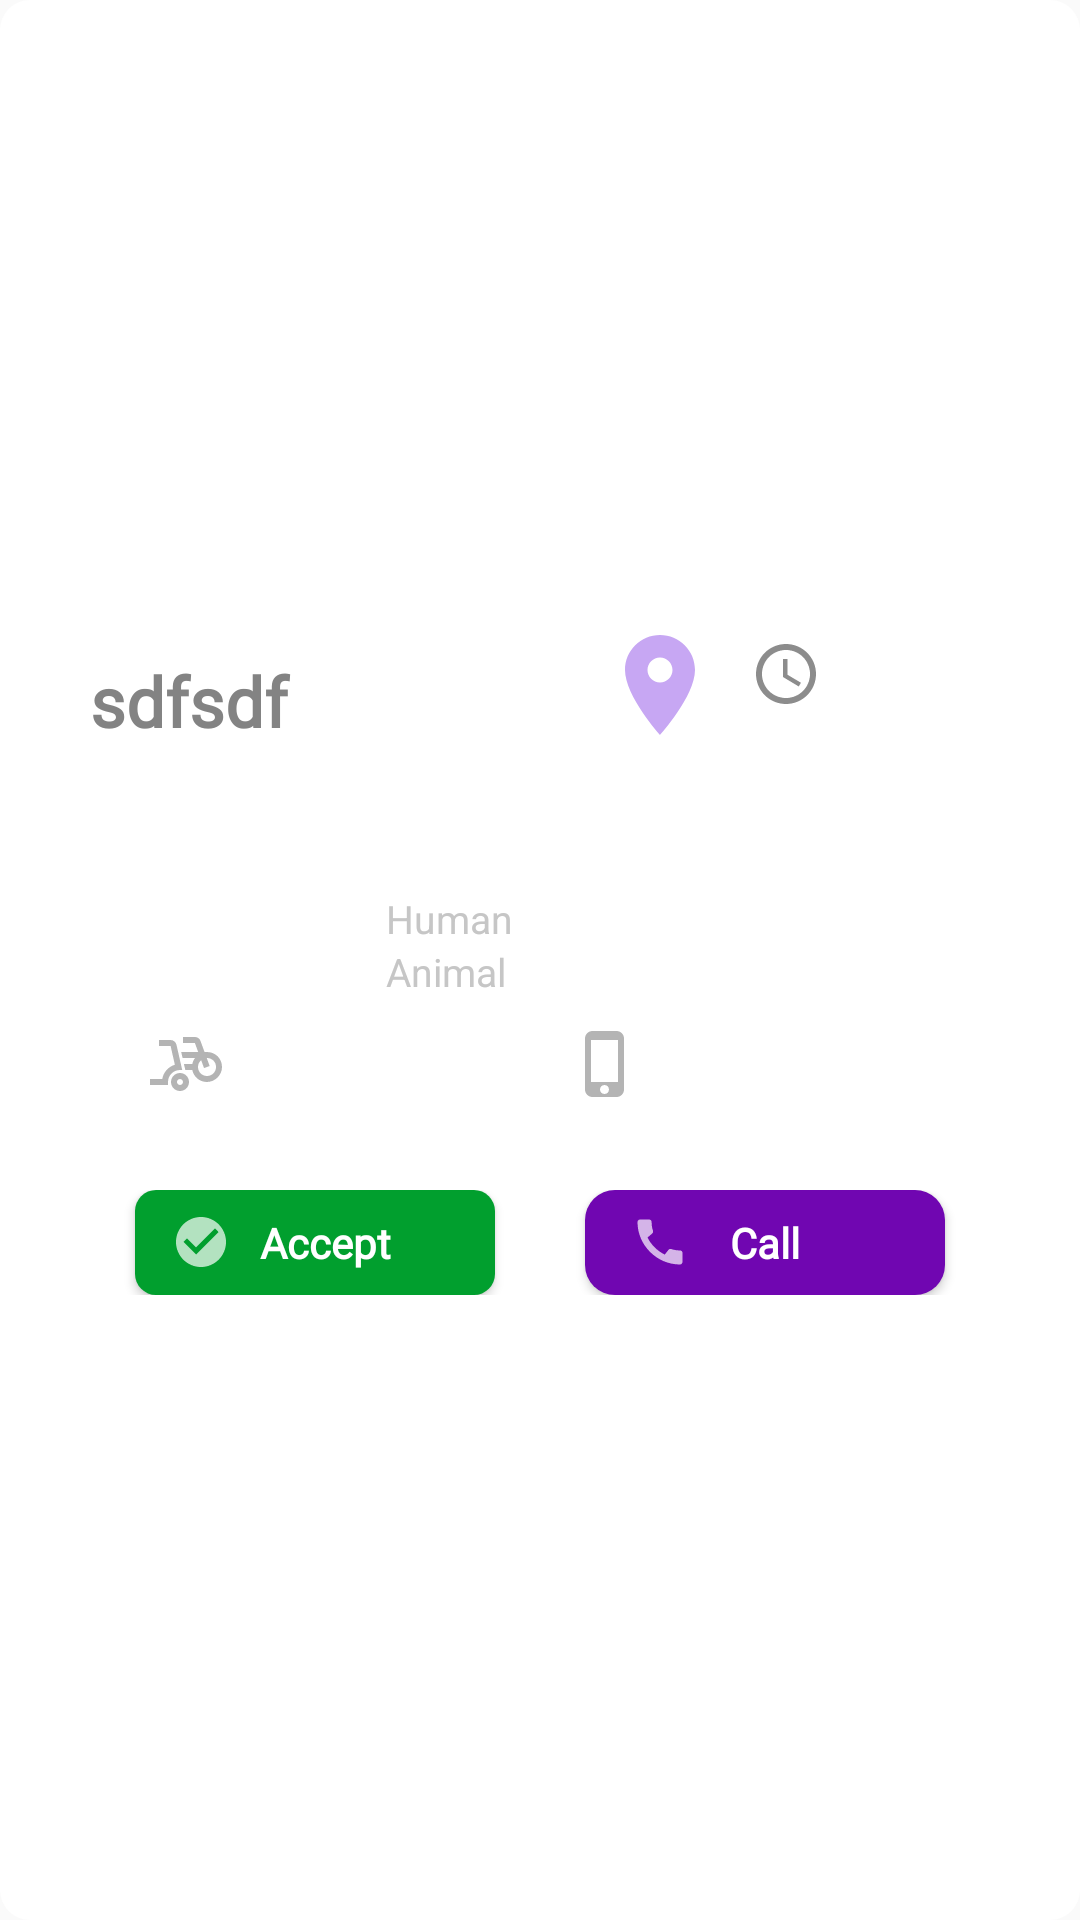

Named icons in this screenshot (1080x1920) and their centers, (x,y):
location on: (660,685)
